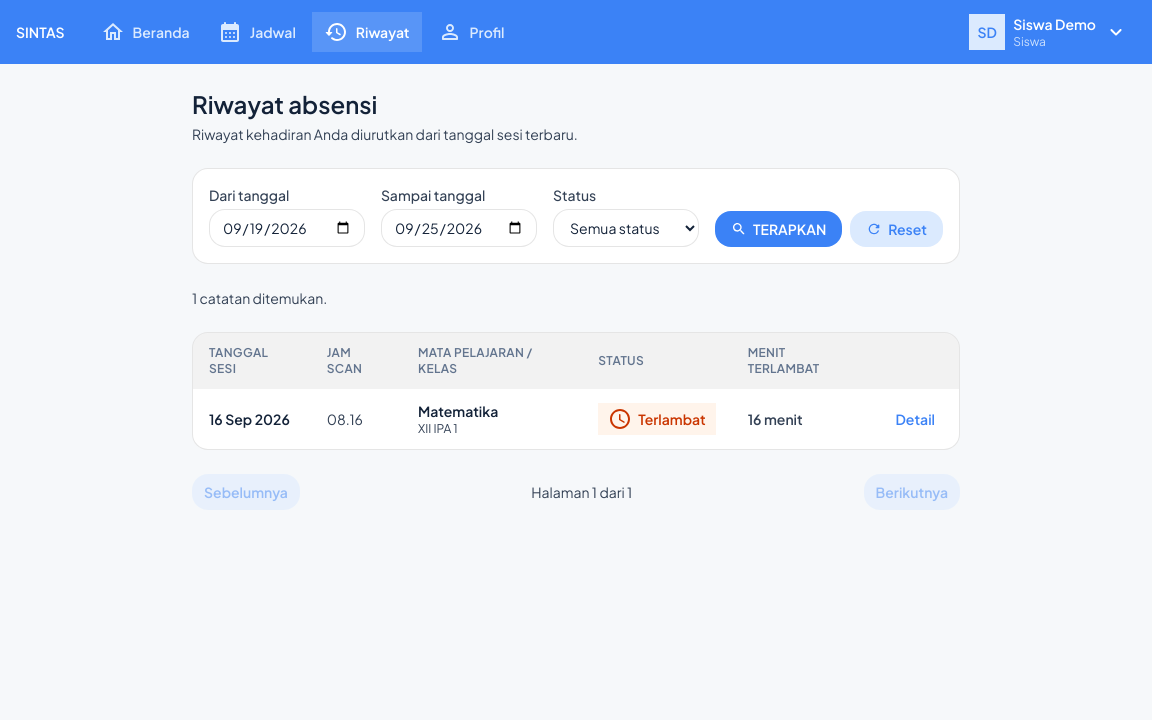
it: halaman riwayat siswa › menampilkan error validasi saat dari lebih besar dari sampai
Expected: the text "1 catatan ditemukan." is shown, [192,289,327,307]
Type "2026-09-20" into the date field labelled "Dari tanggal" at (287, 228), box [209,209,365,247]
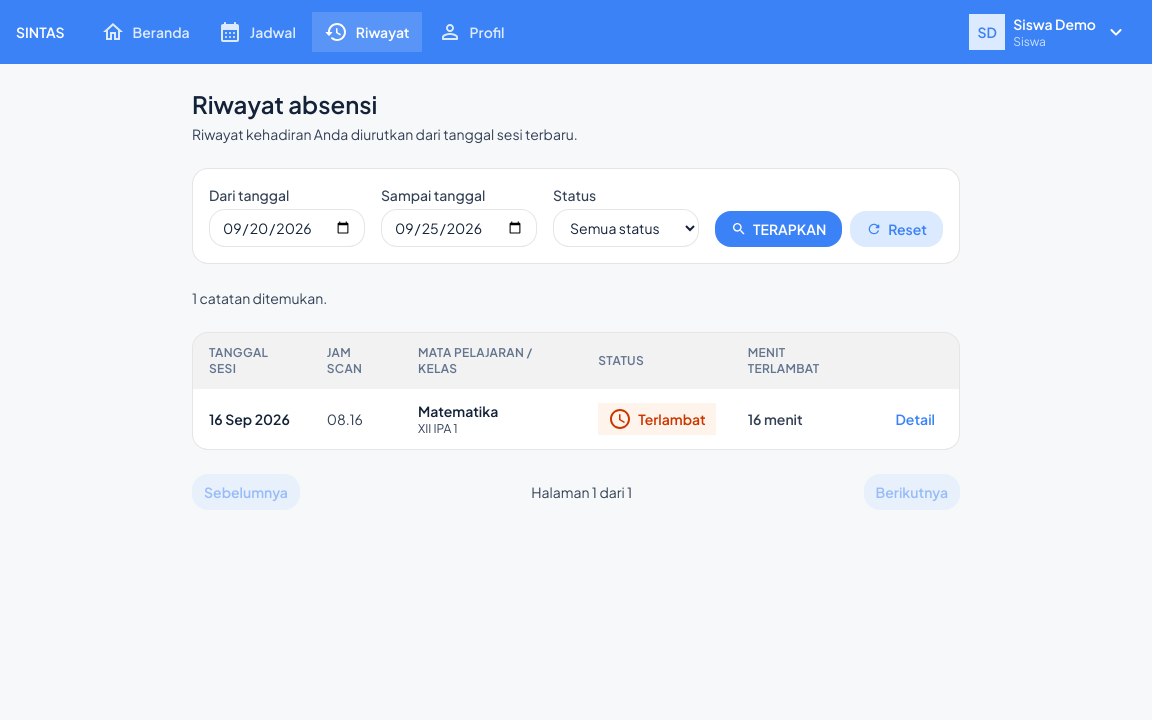
Type "2026-09-10" into the date field labelled "Sampai tanggal" at (459, 228), box [381,209,537,247]
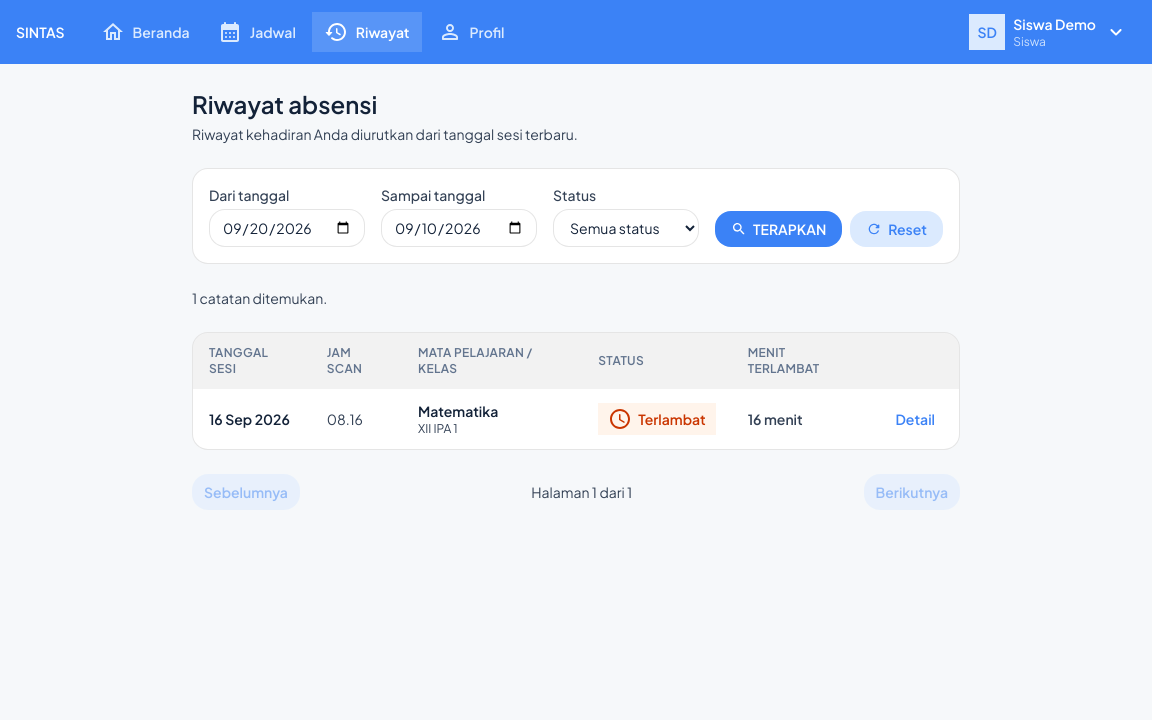
Click the button "Terapkan" at (779, 229), box [715,211,842,247]
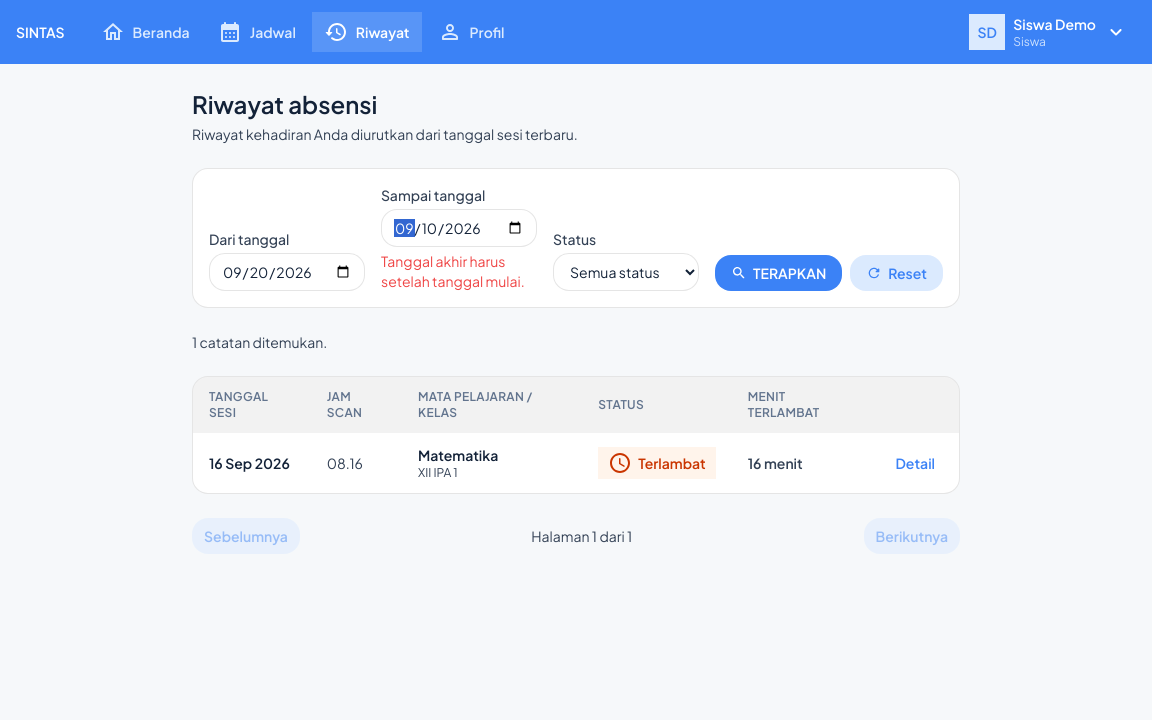
Now the text "Tanggal akhir harus setelah tanggal mulai." is shown, box [381,251,537,291]
